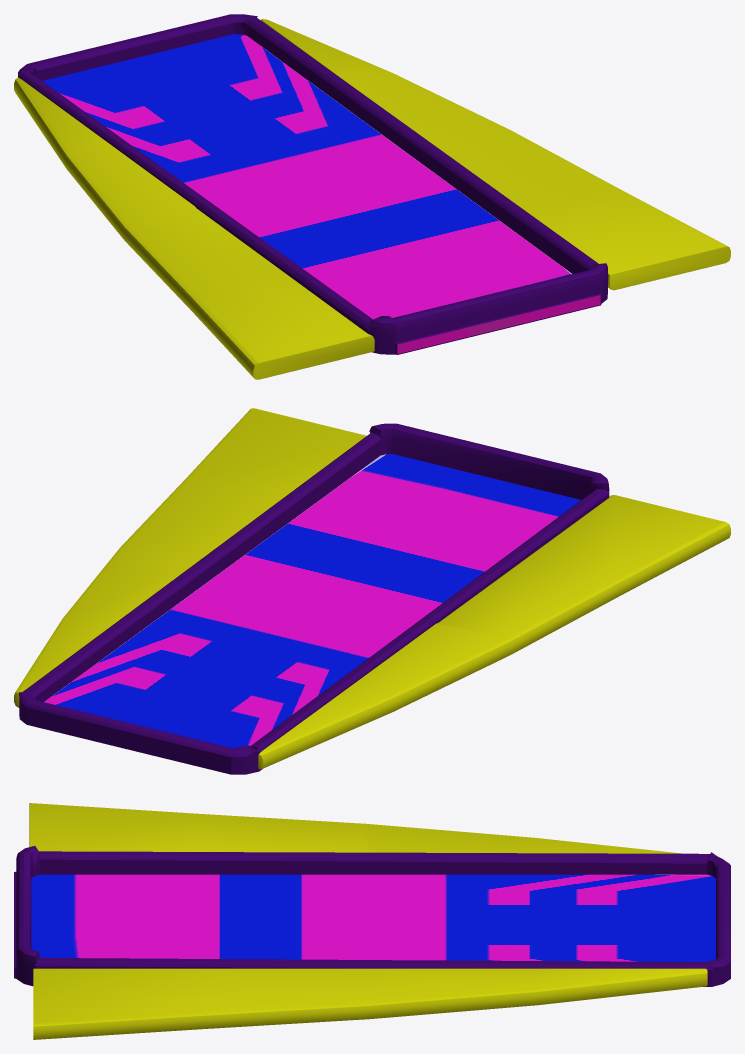
Rendered from productionhovertest.fbx.
3 renders of one model, top to bottom at view 1: azimuth 30°, elevation 25°; view 2: azimuth 150°, elevation 25°; view 3: azimuth 270°, elevation 25°, orthographic. The views are drawn at different scales.
Parts seen in each view (by area): view 1: Box001, wing1.5, Box003; view 2: Box001, wing1.5, Box003; view 3: Box001, Box003, wing1.5.
Part boxes in pixels (x1,y1,x2,y2): Box001: [18, 14, 607, 354]; wing1.5: [14, 77, 374, 379]; Box003: [260, 19, 730, 290]; Box001: [19, 423, 609, 774]; wing1.5: [258, 495, 730, 769]; Box003: [14, 408, 366, 707]; Box001: [14, 846, 730, 986]; Box003: [33, 968, 707, 1039]; wing1.5: [29, 803, 681, 853].
Size of the model in its own units: 82.97 by 7.64 by 111.
Materials: 6 (1 with a texture image).
